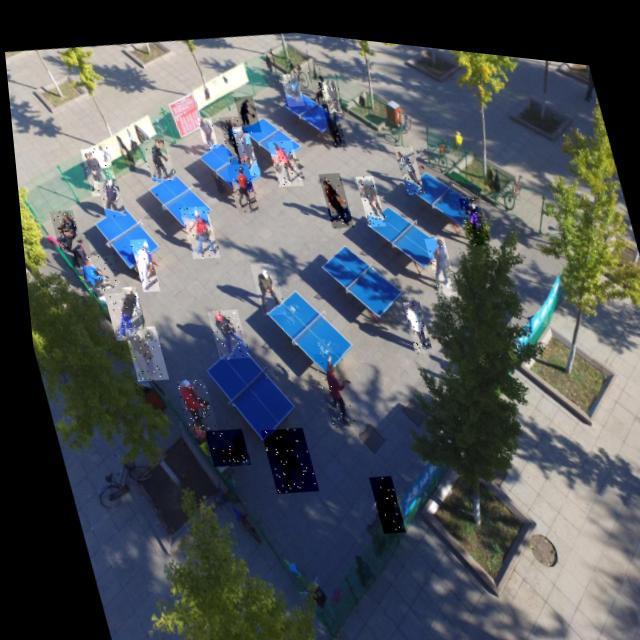Person: (252, 417, 310, 492), (306, 342, 352, 424), (96, 281, 143, 341), (117, 320, 162, 381), (167, 372, 211, 432), (201, 301, 244, 358), (175, 199, 215, 257), (419, 225, 454, 289), (360, 466, 396, 527), (195, 420, 242, 466), (76, 142, 116, 196), (72, 250, 117, 296), (315, 163, 350, 222), (245, 255, 281, 312), (265, 131, 302, 183), (136, 132, 174, 181), (216, 108, 250, 162), (223, 156, 257, 210), (397, 291, 427, 347), (125, 234, 155, 290), (455, 184, 487, 236), (352, 165, 382, 220), (44, 207, 79, 253), (392, 134, 422, 186), (229, 118, 257, 171), (92, 175, 122, 216), (60, 229, 90, 269), (232, 88, 260, 129), (321, 94, 344, 141), (279, 65, 303, 101), (307, 62, 331, 96), (195, 111, 216, 147), (320, 71, 340, 106)
